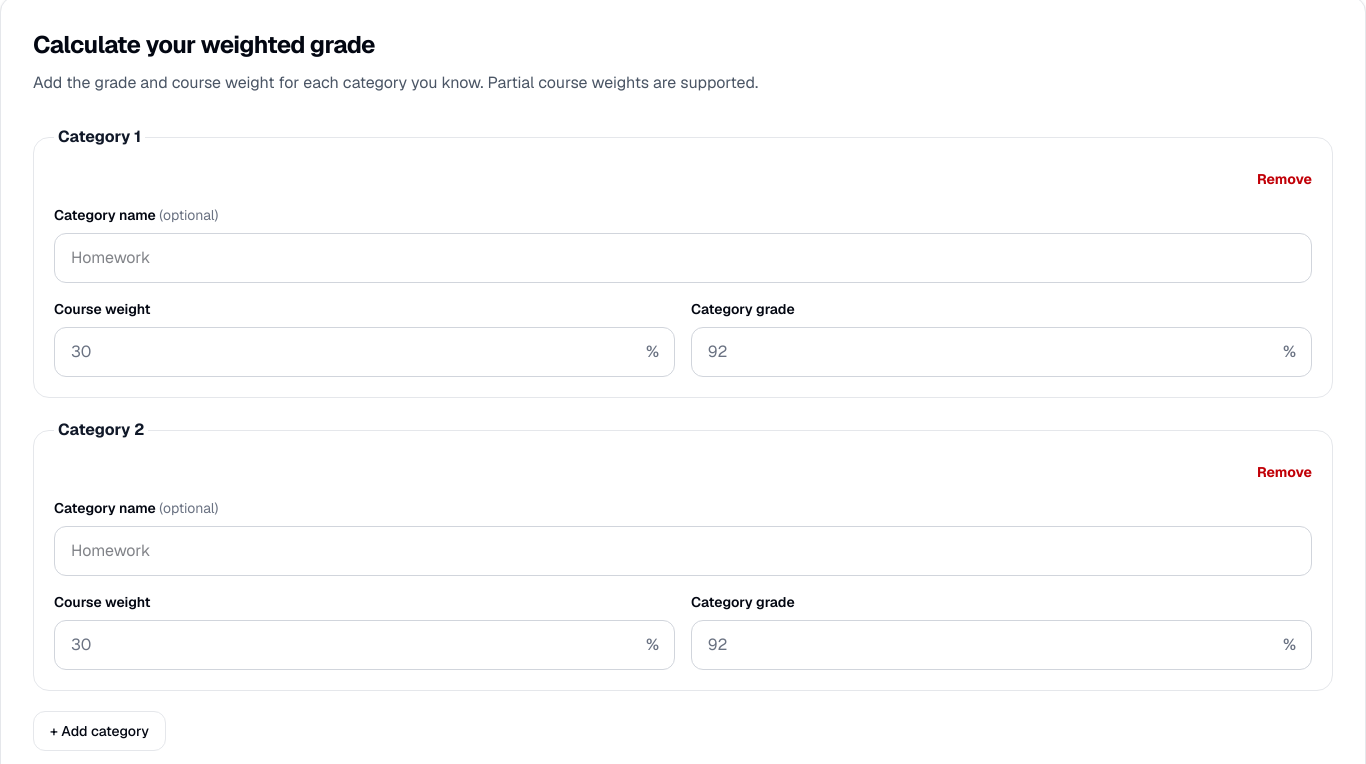
Test: WeightedGradeCalculator › rejects combined weights above 100%
Type "60" into the 1st number field labelled "Course weight" at (364, 352), box [54, 327, 675, 377]
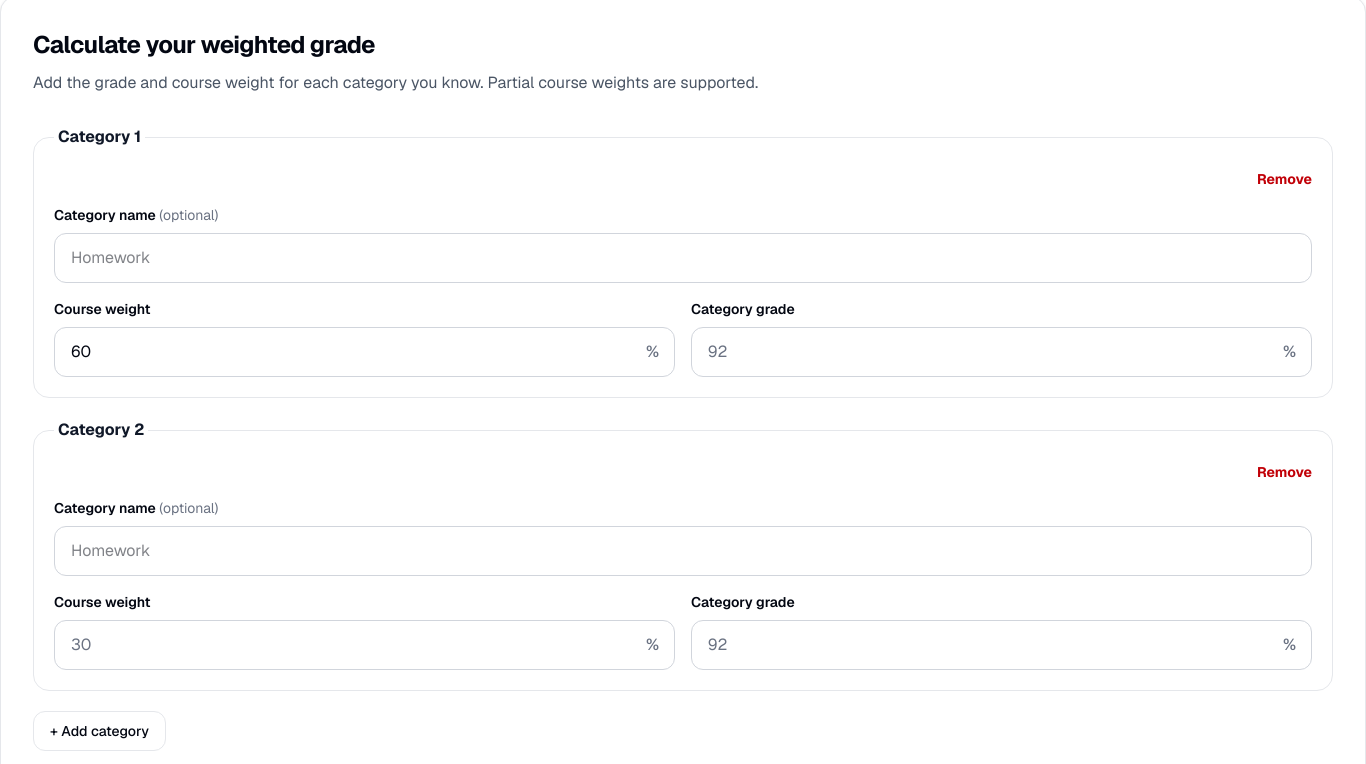
Type "90" into the 1st number field labelled "Category grade" at (1002, 352), box [691, 327, 1312, 377]
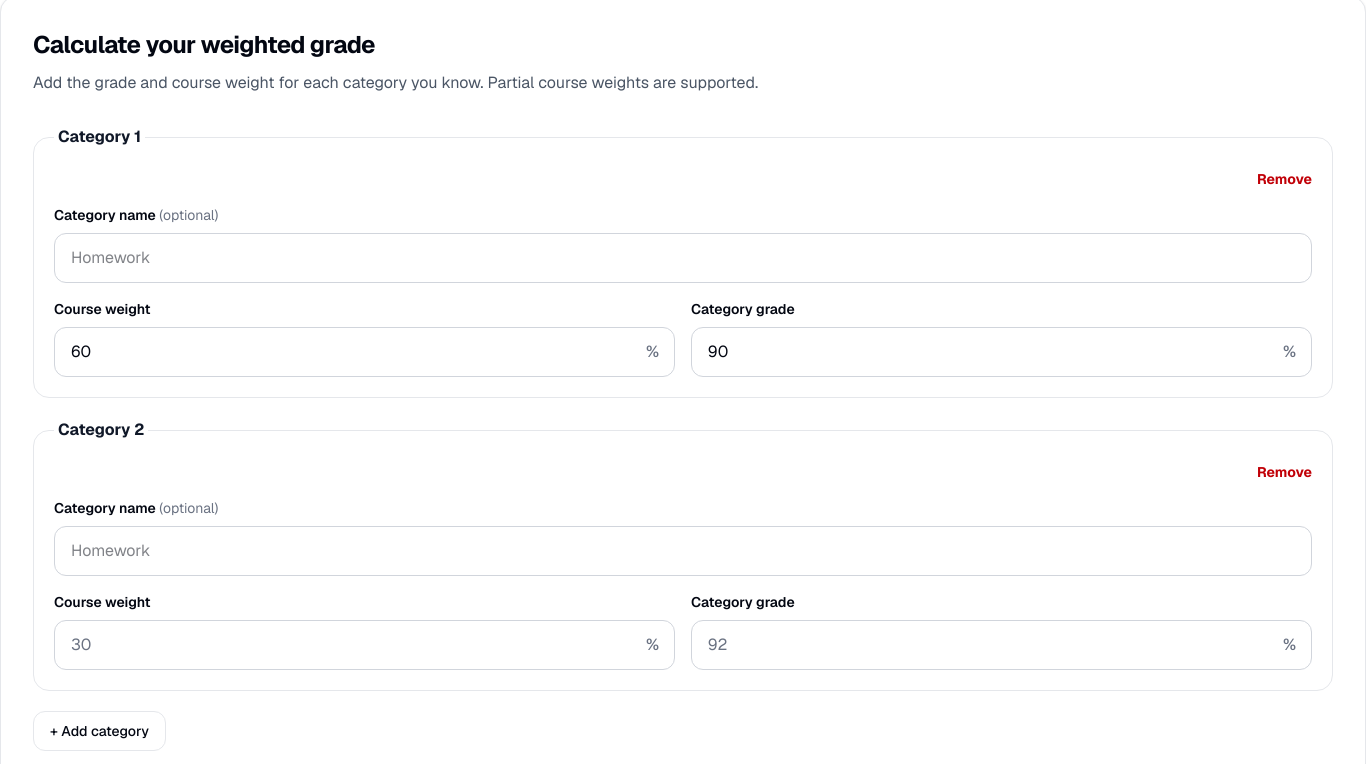
Type "50" into the 2nd number field labelled "Course weight" at (364, 645), box [54, 620, 675, 670]
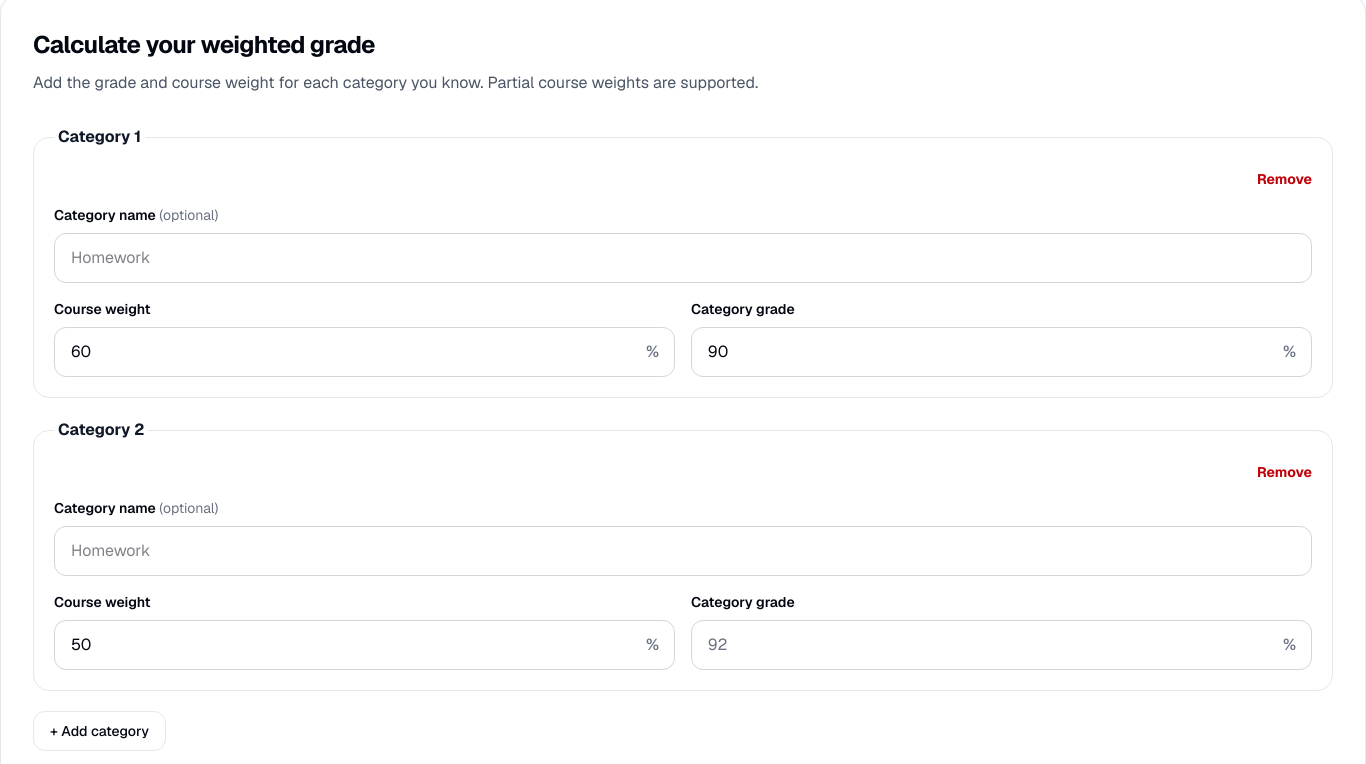
Type "80" into the 2nd number field labelled "Category grade" at (1002, 645), box [691, 620, 1312, 670]
(page scrolled)
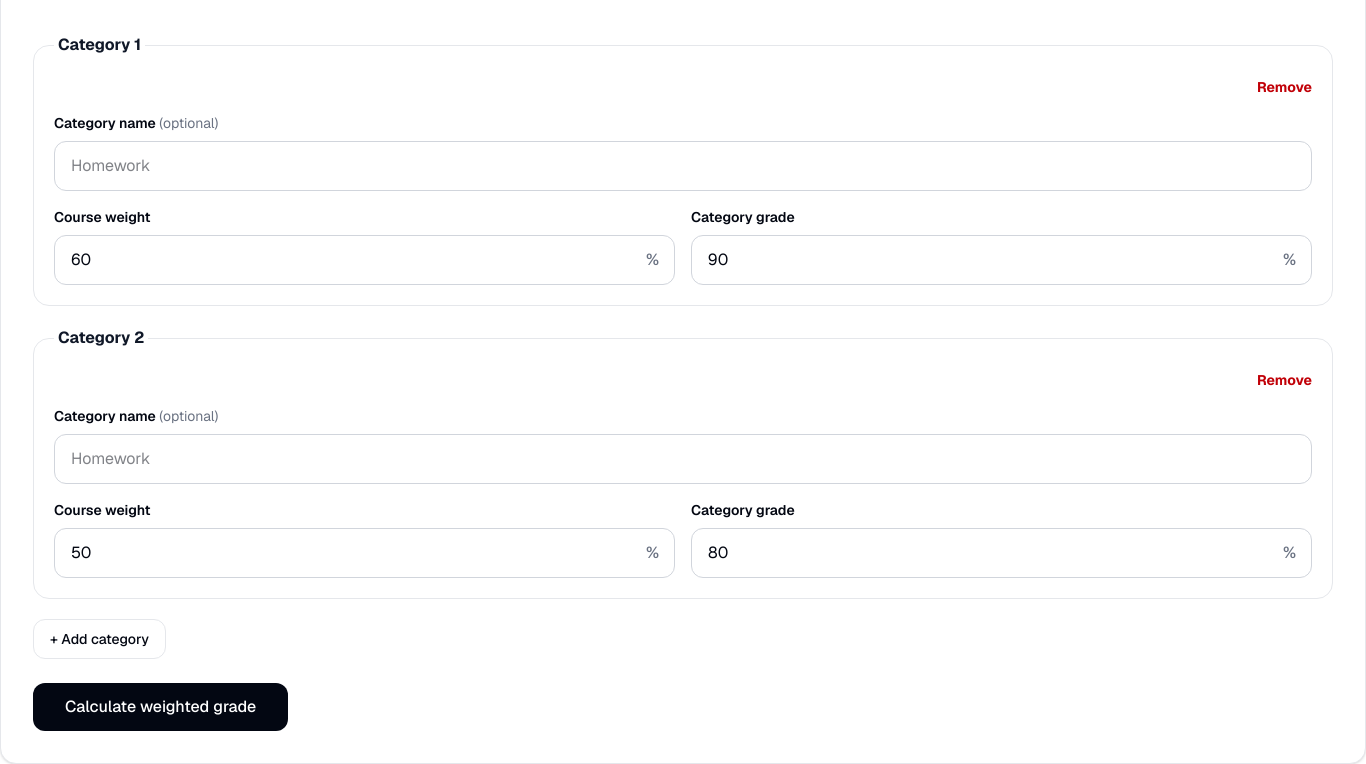
Click the button "Calculate weighted grade" at (161, 707), box [33, 683, 288, 731]
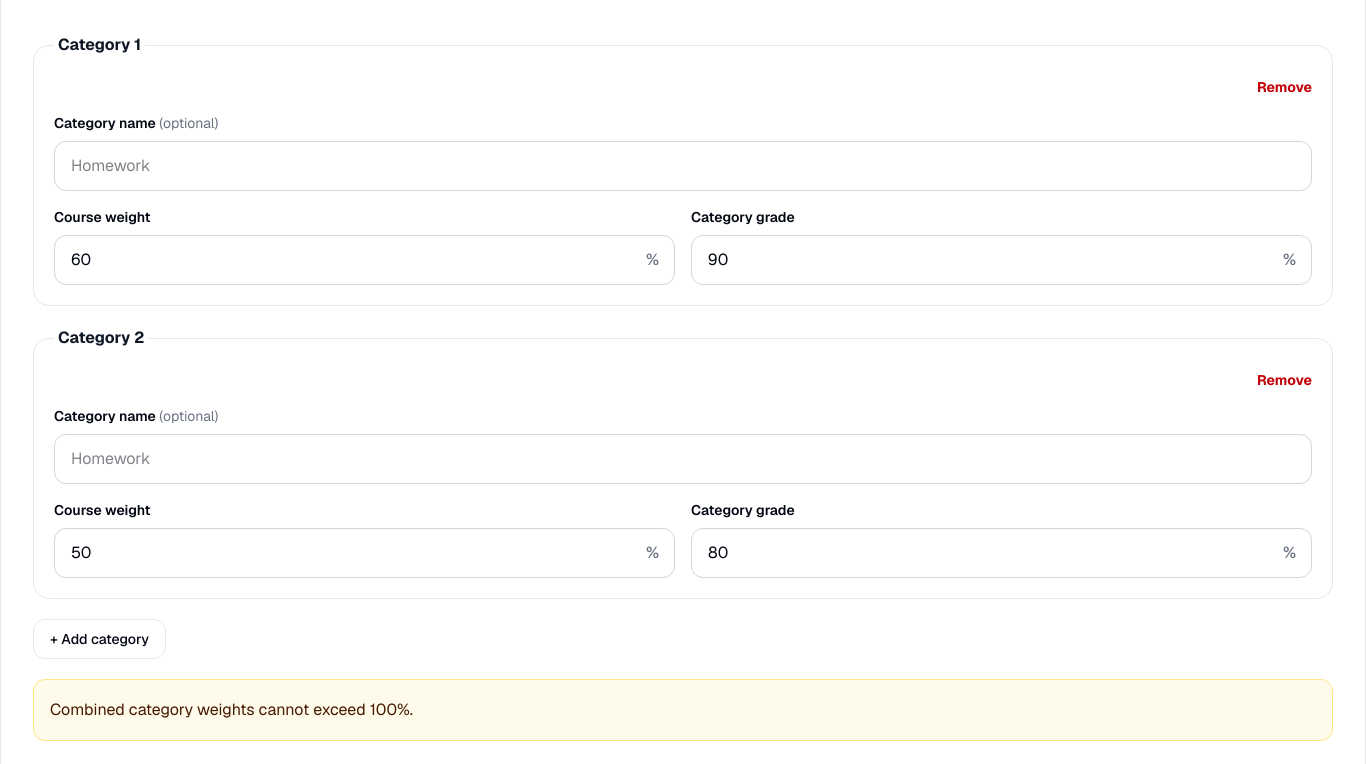
Expected: the text "Combined category weights cannot exceed 100%." is shown, [33, 679, 1333, 741]
